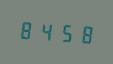eight: (18, 17, 36, 42), (75, 21, 93, 46)
five: (56, 20, 74, 45)
four: (37, 18, 55, 43)
